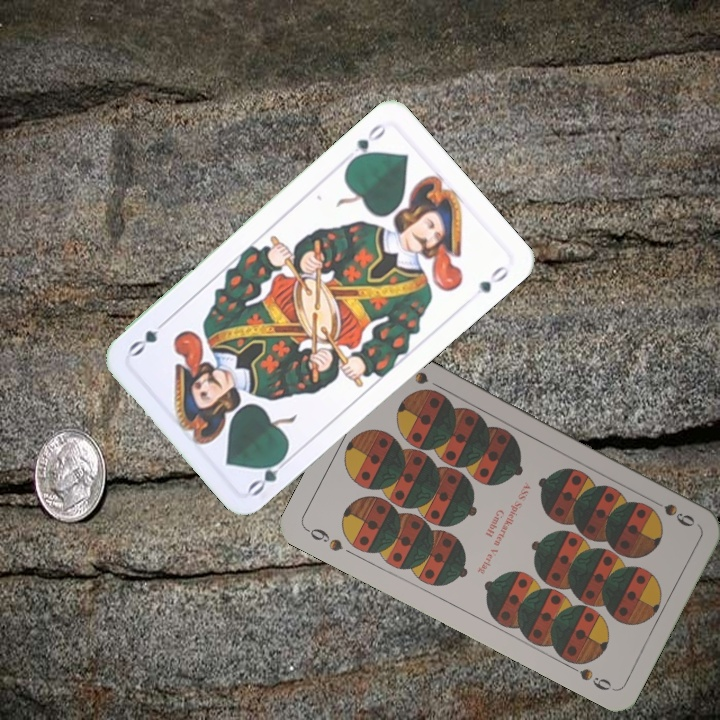GO: (243, 449, 294, 499), (344, 119, 389, 167)
S9: (644, 494, 698, 530), (302, 524, 346, 554)
